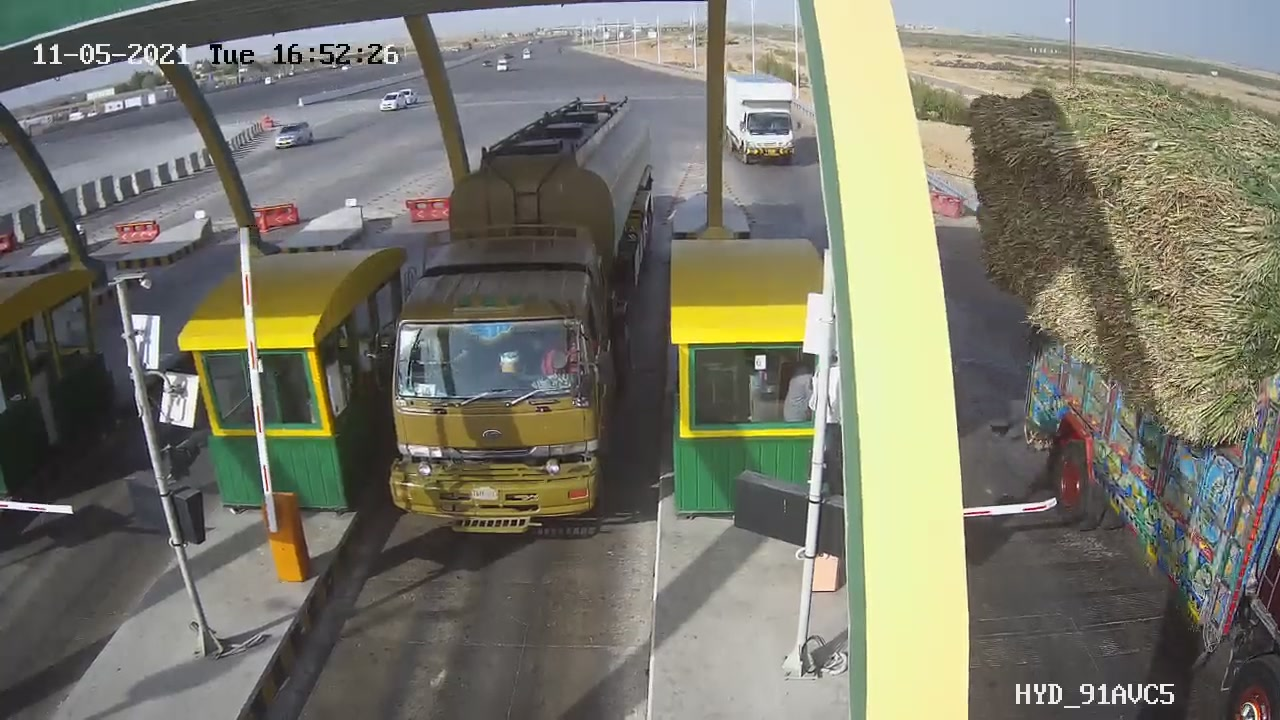F6: (344, 81, 688, 566)
